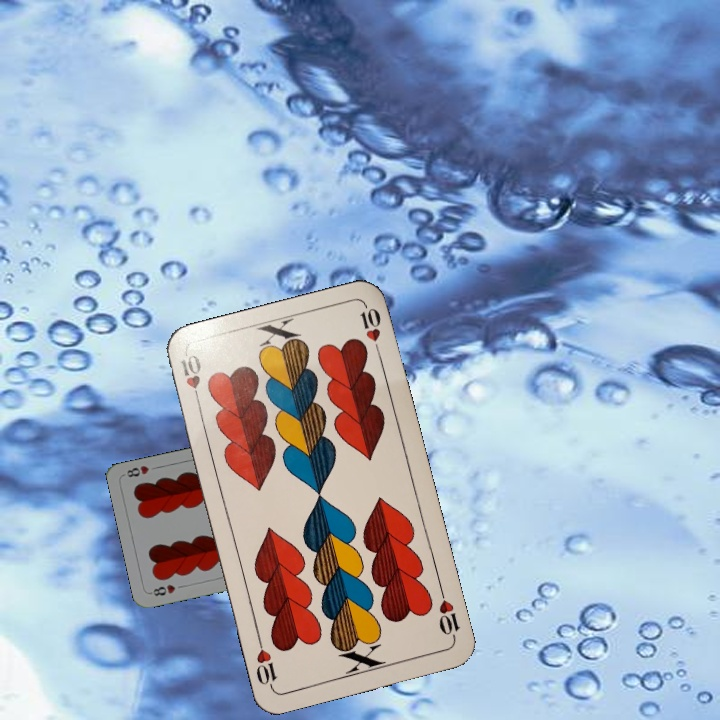H10: (176, 350, 204, 408), (435, 584, 462, 642)
H8: (147, 580, 178, 599)
